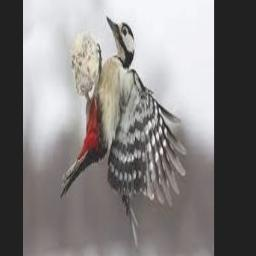Woodpecker: (60, 16, 187, 245)
